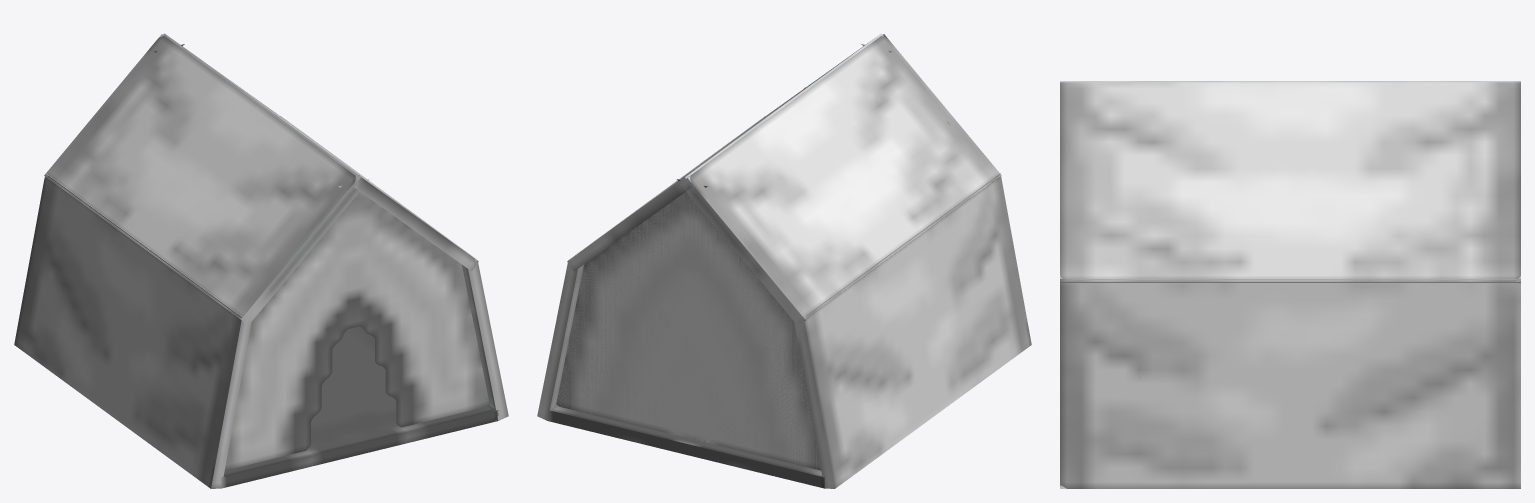
File: tent.obj
3 views of the same model, side by side, from view 1: azimuth 30°, elevation 25°; view 2: azimuth 150°, elevation 25°; view 3: azimuth 270°, elevation 25° (orthographic). The views are drawn at different scales.
Visible parts, largest first — view 1: cube; view 2: cube; view 3: cube.
Boxes of the visible parts, x1=… form: cube: x1=14, y1=33, x2=508, y2=488; cube: x1=537, y1=33, x2=1031, y2=488; cube: x1=1060, y1=81, x2=1520, y2=488.
Size of the model in its own units: 1.75 by 1.55 by 2.
